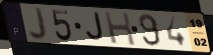4: (167, 15, 189, 49)
5: (50, 8, 73, 42)
9: (138, 12, 162, 48)
H: (103, 10, 138, 47)
J: (28, 6, 49, 42), (85, 11, 106, 43)
